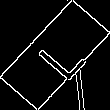L_NW: (25, 27, 85, 83)
